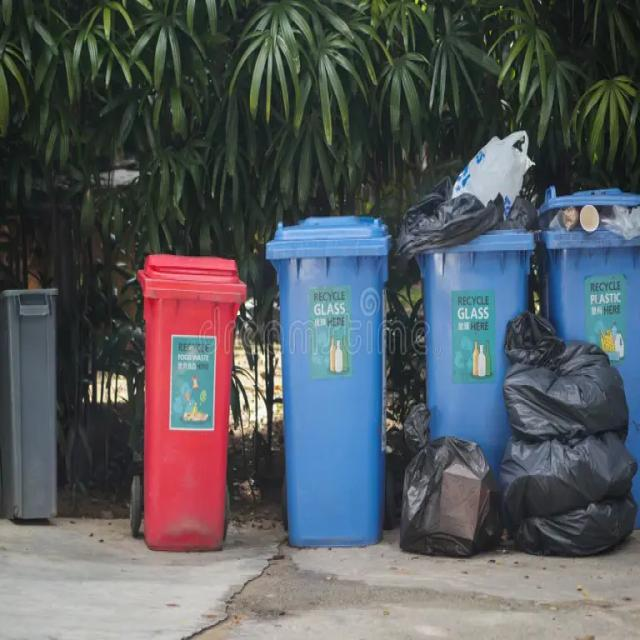bin_empty: (270, 216, 383, 566), (146, 258, 250, 564)
bin_full: (438, 216, 526, 444), (540, 200, 640, 348)
normal_waste: (506, 434, 640, 554), (511, 316, 624, 441), (396, 436, 506, 558), (400, 181, 494, 254), (458, 127, 551, 198), (546, 213, 640, 226)
